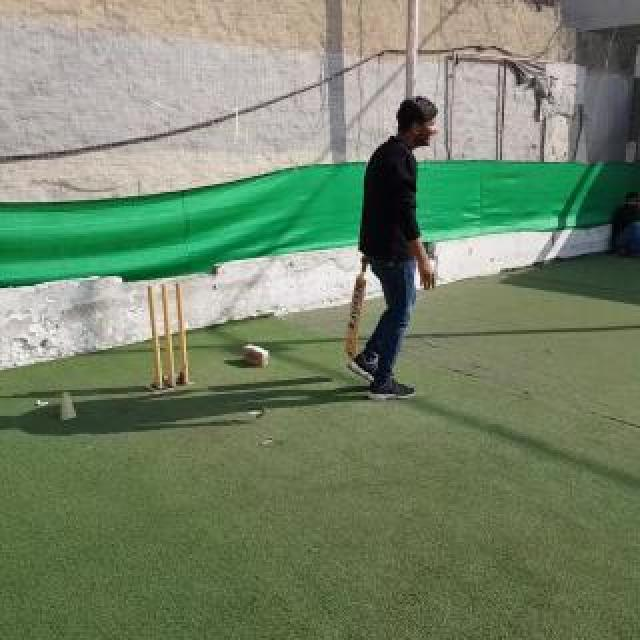bat: (346, 256, 368, 360)
